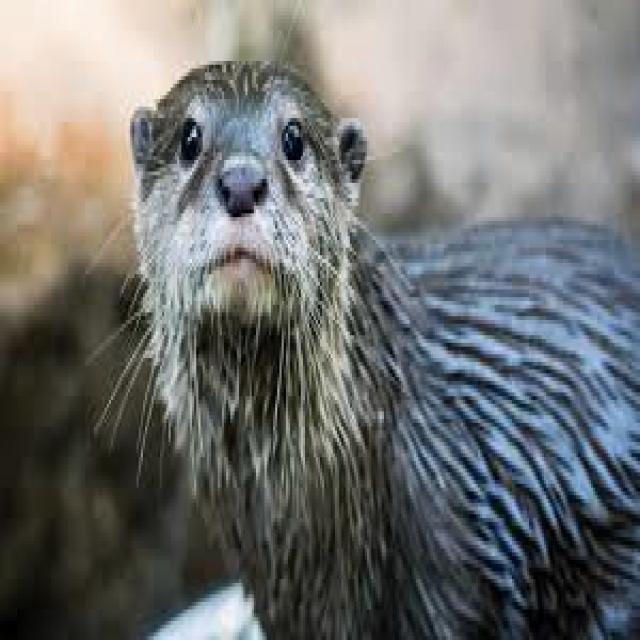otter: (98, 61, 638, 636)
